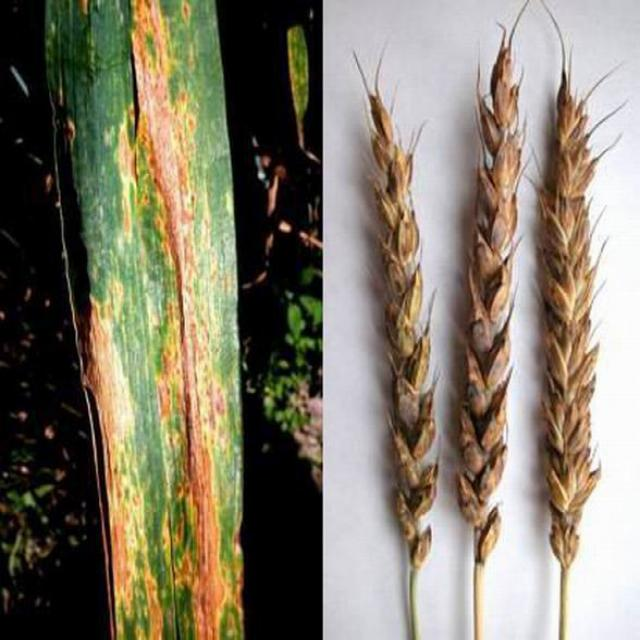wheat-septoria: (45, 0, 245, 640), (364, 87, 440, 563), (460, 29, 527, 568), (540, 70, 605, 573)
